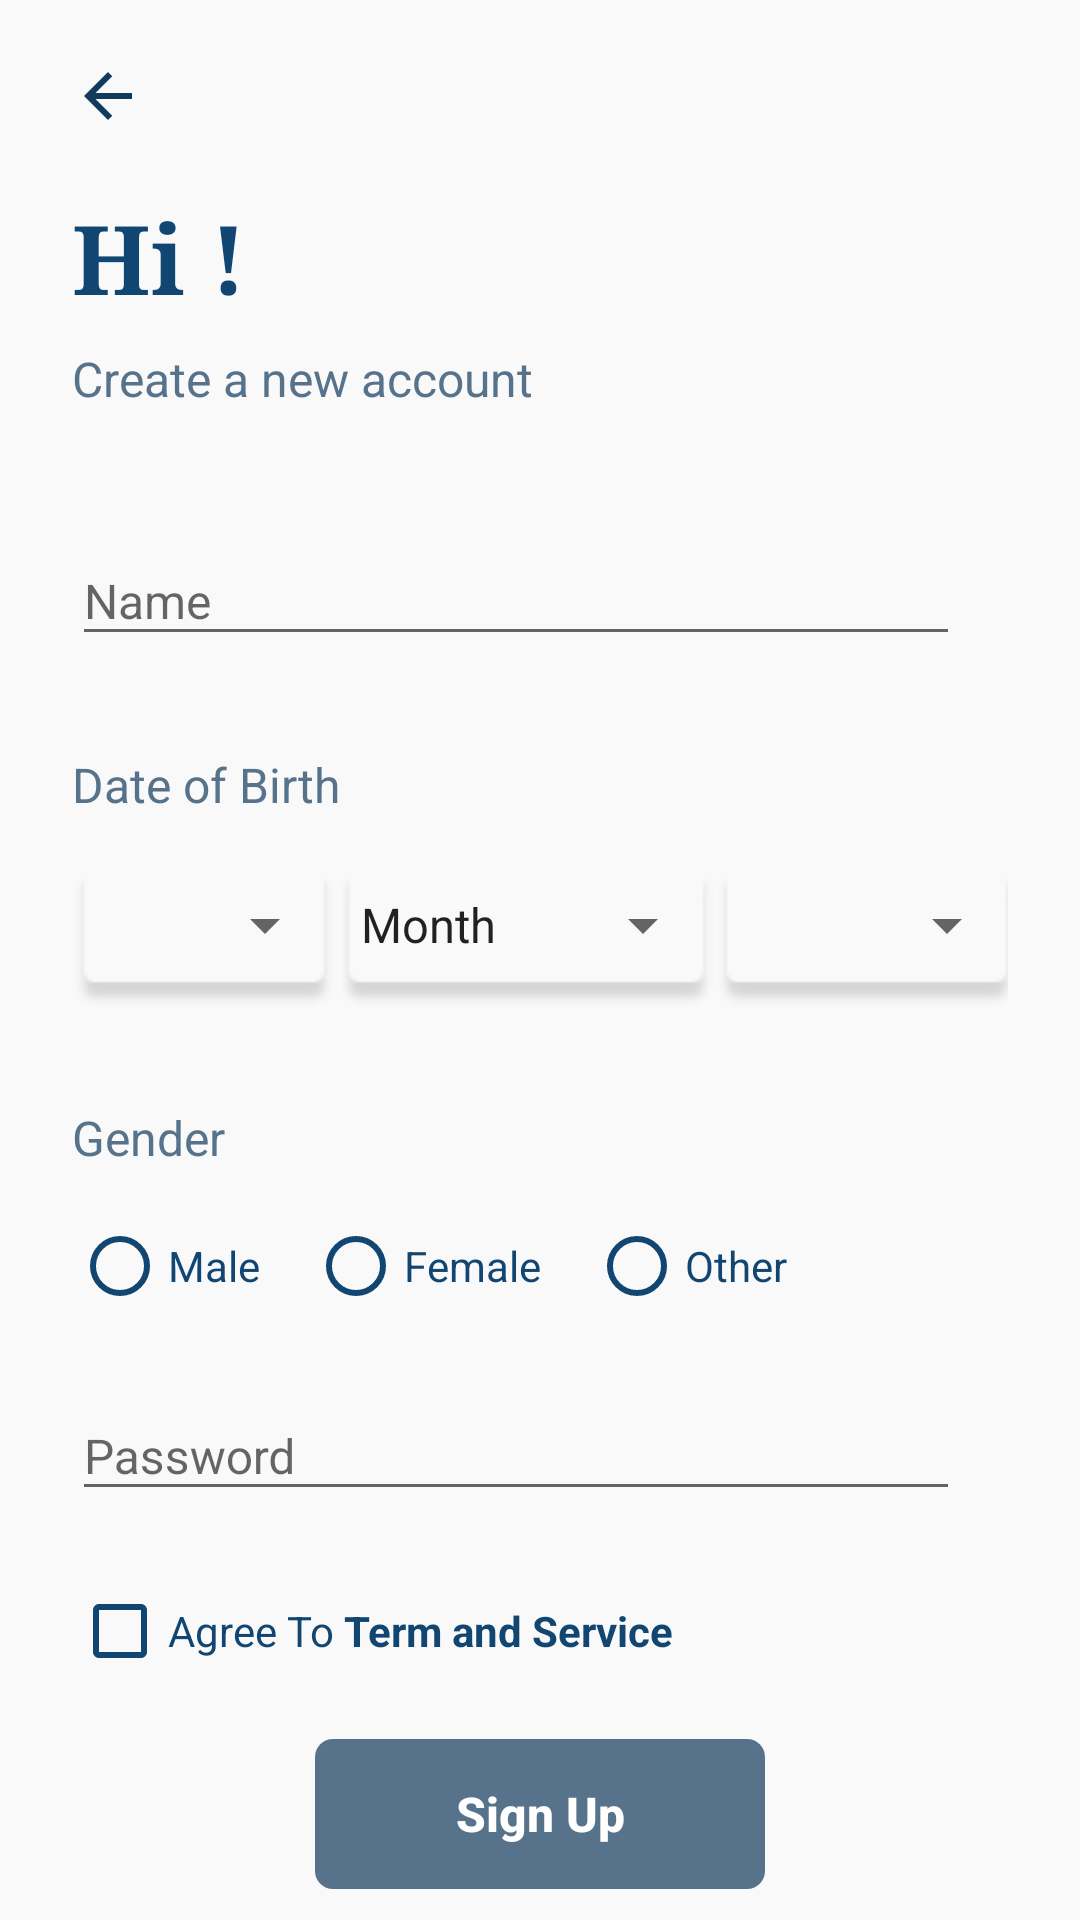

Locate icon controls on the screen. Image size 1080×1920, boxes as {"left": x1, "top": y1, "right": x2, "bottom": y2}.
arrow: {"left": 84, "top": 72, "right": 132, "bottom": 120}
